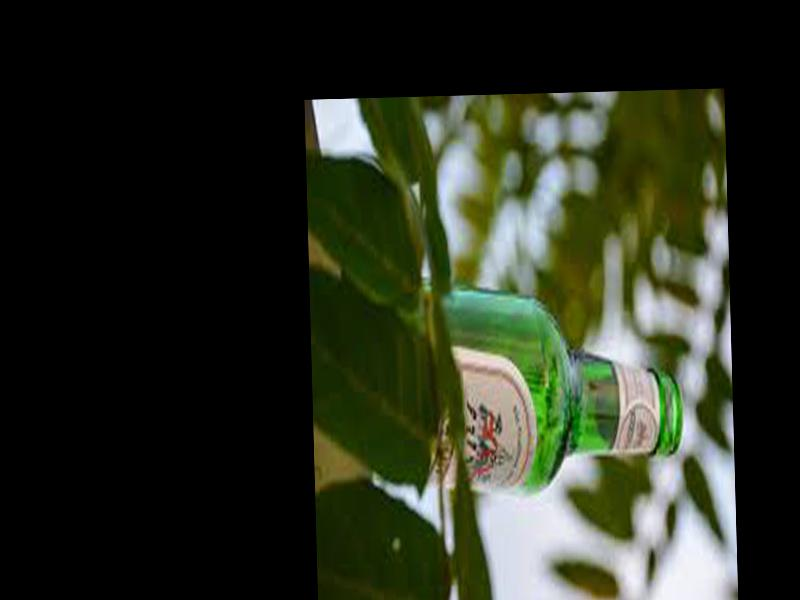Beer: (417, 285, 684, 494)
